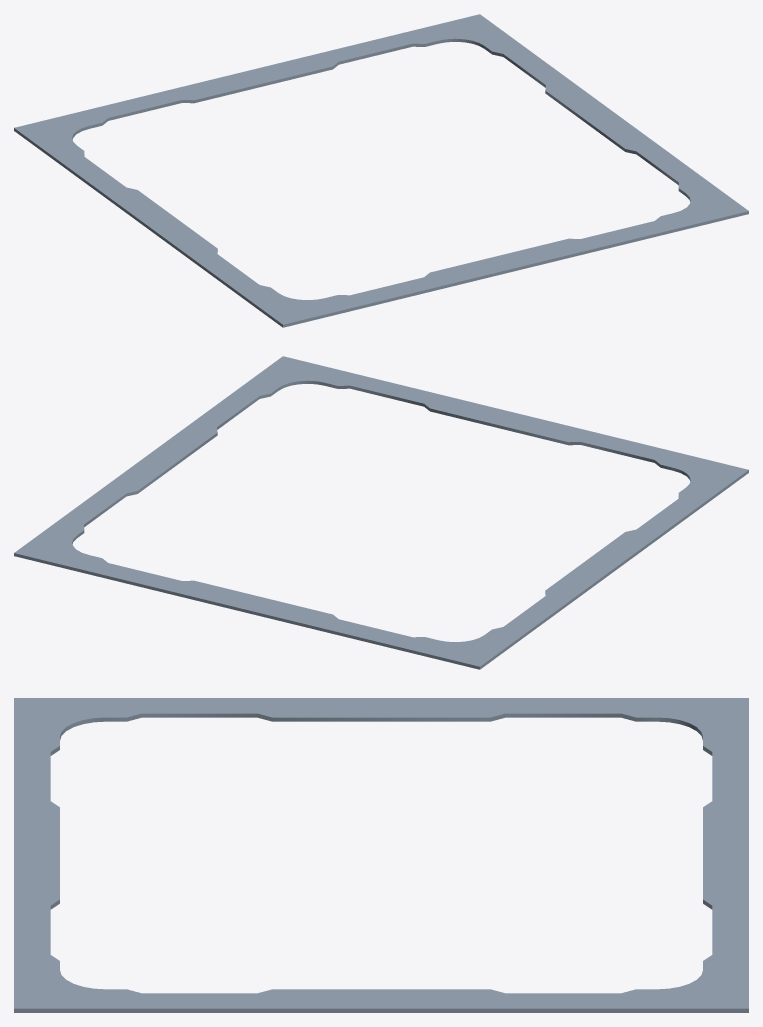
The model's file is RoadSideClosedOff.fbx.
3 views of the same model, one above another, from view 1: azimuth 30°, elevation 25°; view 2: azimuth 150°, elevation 25°; view 3: azimuth 270°, elevation 25° (orthographic). The views are drawn at different scales.
Visible parts, largest first — view 1: RoadSideClosedOff_LOD0; view 2: RoadSideClosedOff_LOD0; view 3: RoadSideClosedOff_LOD0.
Boxes of the visible parts, <box> form: RoadSideClosedOff_LOD0: <box>14,14,748,327</box>; RoadSideClosedOff_LOD0: <box>14,356,748,669</box>; RoadSideClosedOff_LOD0: <box>14,698,748,1012</box>.
Size of what is drawn, in the model's own units: 1600 by 10 by 1600.
